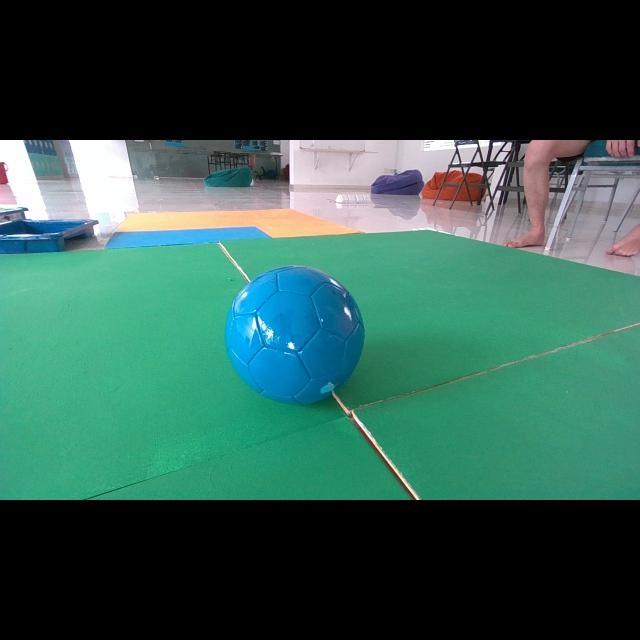B: (225, 266, 365, 405)
